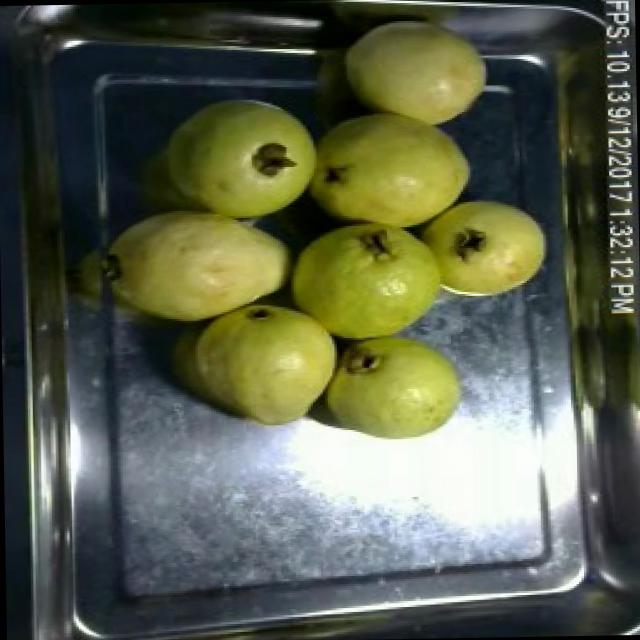Fruit: (102, 190, 308, 334), (166, 290, 350, 438), (160, 86, 333, 229), (272, 222, 459, 351), (294, 106, 480, 227), (332, 3, 498, 136), (308, 333, 471, 452), (410, 188, 556, 306)
